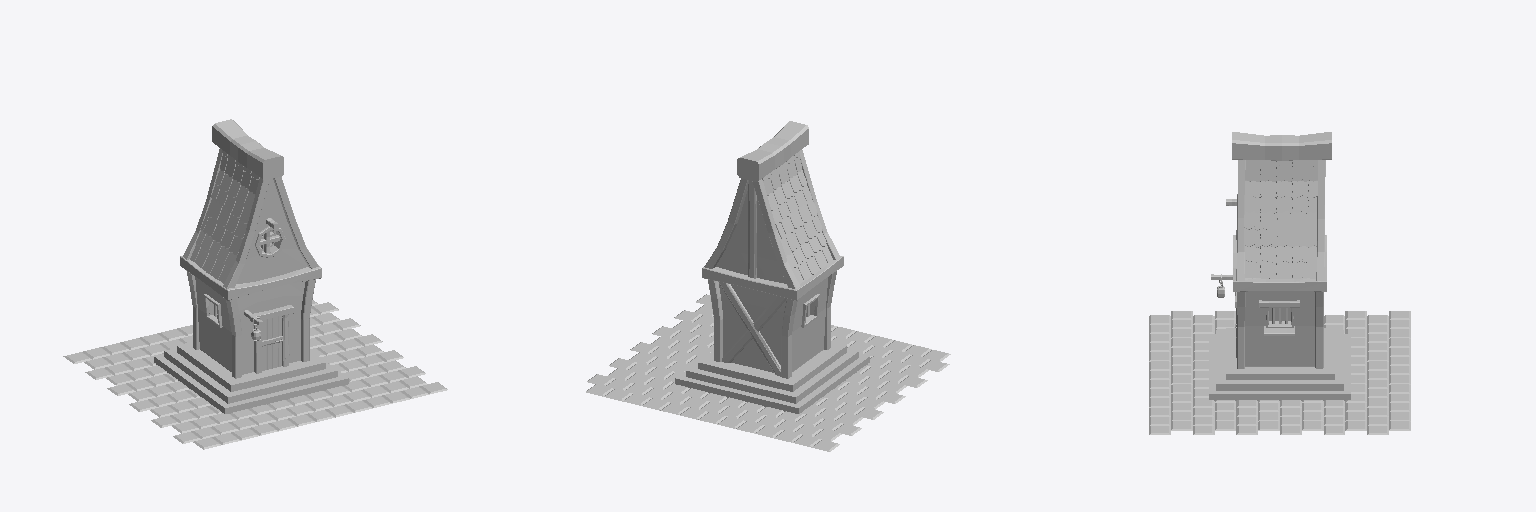
File: Medieval Stylized House.obj
3 views of the same model, side by side, from view 1: azimuth 30°, elevation 25°; view 2: azimuth 150°, elevation 25°; view 3: azimuth 270°, elevation 25° (orthographic).
Visible parts, largest first — view 1: box1612, box2, Object1651, box1, Object5, box11, box111, Object2, Object21, Object71, Object3, box31 (+3 smaller); view 2: box1612, box2, Object1651, box1, Object5, box111, box11, Object2, Object211, box41, Object31, box311 (+4 smaller); view 3: box1612, Object165, box2, Object5, box11, box1, box111, Object2, Object31, Object3, box32, box3.
Part boxes in pixels (x1,y1,x2,y2): box1612: (63, 300, 447, 449); box2: (195, 179, 307, 374); Object1651: (190, 150, 259, 283); box1: (177, 342, 325, 391); Object5: (212, 119, 283, 179); box11: (164, 348, 337, 403); box111: (154, 354, 348, 413); Object2: (180, 246, 321, 300); Object21: (223, 177, 269, 288); Object71: (262, 316, 282, 370); Object3: (273, 177, 318, 268); box31: (226, 298, 241, 378); box1612: (586, 294, 950, 451); box2: (716, 191, 827, 372); Object1651: (762, 151, 832, 283); box1: (698, 342, 846, 391); Object5: (737, 121, 808, 181); box111: (675, 354, 869, 413); box11: (686, 348, 858, 403); Object2: (702, 256, 843, 300); Object211: (752, 179, 800, 288); box41: (719, 282, 780, 376); Object31: (704, 178, 748, 268); box311: (781, 299, 797, 378); box1612: (1149, 311, 1410, 434); Object165: (1244, 160, 1317, 278); box2: (1245, 260, 1314, 366); Object5: (1232, 132, 1331, 160); box11: (1216, 330, 1343, 390); box1: (1226, 328, 1334, 379); box111: (1209, 334, 1350, 400); Object2: (1233, 235, 1326, 291); Object31: (1316, 160, 1325, 280); Object3: (1236, 160, 1245, 280); box32: (1315, 292, 1323, 368); box3: (1237, 292, 1245, 368).
Size of the model in its own units: 27 by 23.73 by 24.